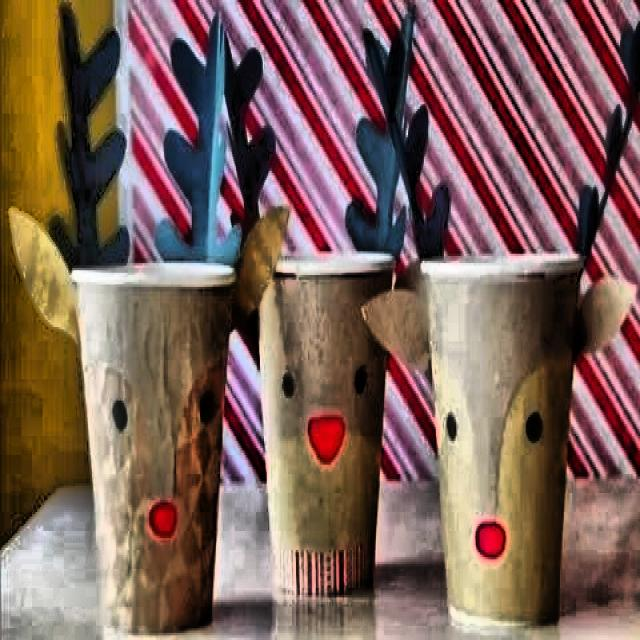Cup: (408, 246, 585, 640), (58, 252, 224, 633), (244, 253, 396, 616)
